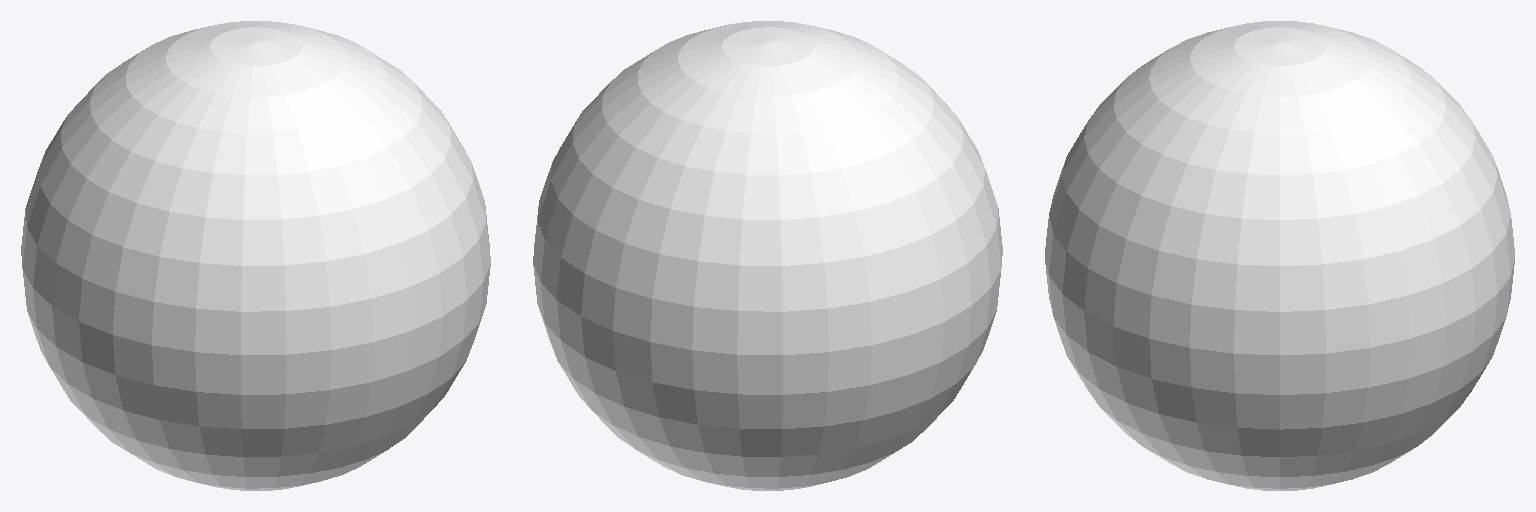
Rendered from Planets.obj.
The picture shows the model from 3 angles: view 1: azimuth 30°, elevation 25°; view 2: azimuth 150°, elevation 25°; view 3: azimuth 270°, elevation 25°; orthographic projection.
Parts seen in each view (by area): view 1: Sphere.001; view 2: Sphere.001; view 3: Sphere.001.
Boxes of the visible parts, x1,y1,x2,y2 form: Sphere.001: [21, 21, 490, 490]; Sphere.001: [533, 21, 1002, 490]; Sphere.001: [1045, 21, 1514, 490].
Bounding box in the file's own units: 1.18 × 1.18 × 1.18.